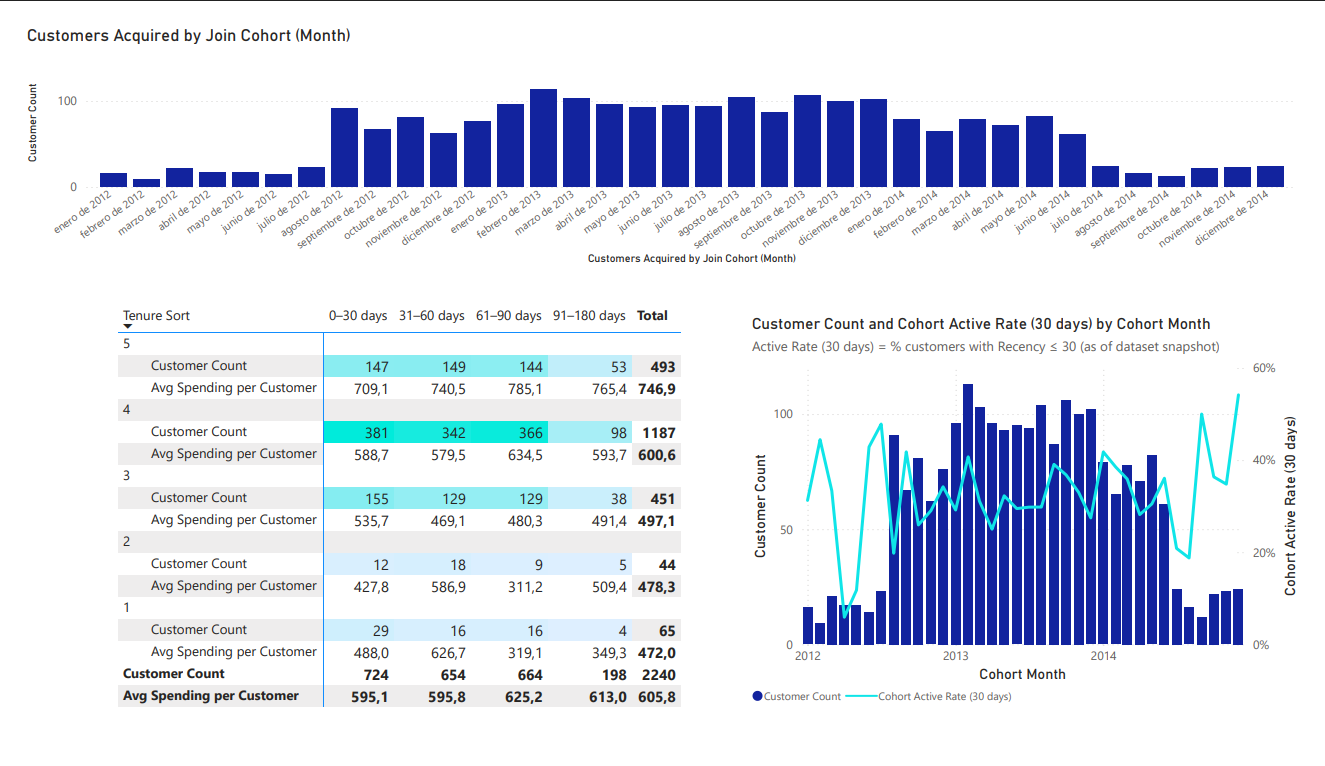

Layout of this report page (visuals, bound fields, positions):
{"tool":"powerbi","page":{"name":"Patterns","canvas":[1280,720],"ordinal":0},"visuals":[{"type":"clusteredColumnChart","title":"Customers Acquired by Join Cohort (Month)","fields":{"Category":["superstore_data.Cohort Month"],"Y":["superstore_data.Customer Count"]},"box":[0,0,1280.4,243.9],"z":0},{"type":"lineStackedColumnComboChart","fields":{"Y2":["superstore_data.Cohort Active Rate (30 days)"],"Y":["superstore_data.Customer Count"],"Category":["superstore_data.Cohort Month"]},"box":[725.4,289.3,555,399.9],"z":2000},{"type":"pivotTable","fields":{"Columns":["superstore_data.Recency Band"],"Values":["superstore_data.Customer Count","superstore_data.Avg Spending per Customer"],"Rows":["superstore_data.Tenure Sort"]},"box":[90.7,274.8,603.9,428.9],"z":3000}]}

Visuals, with their boxes in screenshot pixels (x1, y1, x2, y2), scaled from the page's 1280x720 canvas onto the 1325x766 screenshot:
"Customers Acquired by Join Cohort (Month)" clusteredColumnChart: bbox=[0, 0, 1324, 259]
lineStackedColumnComboChart - superstore_data.Cohort Active Rate (30 days) x superstore_data.Customer Count: bbox=[751, 308, 1324, 733]
pivotTable - superstore_data.Recency Band x superstore_data.Customer Count: bbox=[94, 292, 719, 749]
